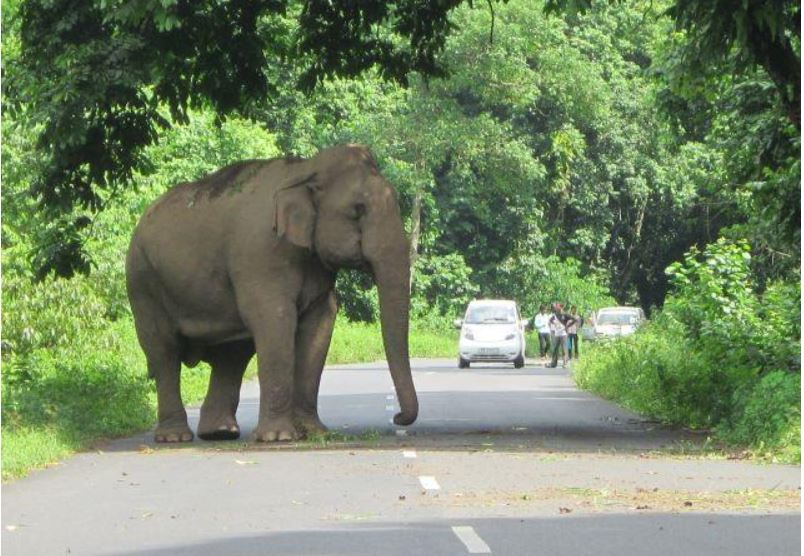Elephant: (123, 144, 429, 443)
Road: (1, 357, 799, 554)
